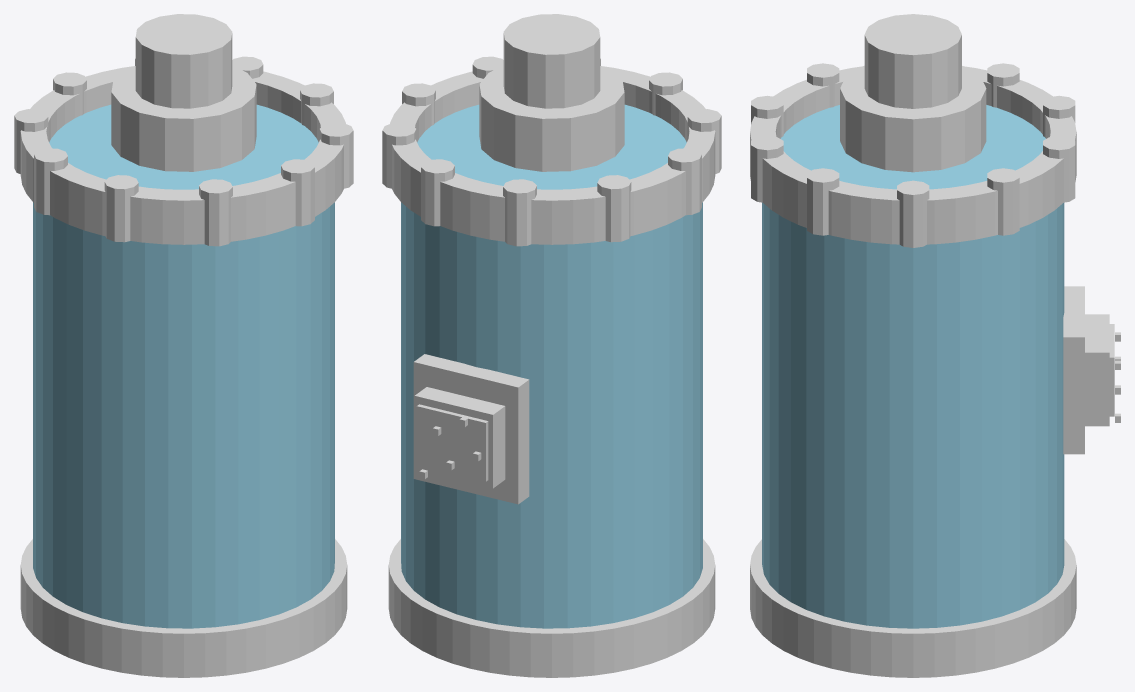
Rendered from L76_36_VirtualSuppressorCartridge_Fitted.fbx.
3 renders of one model, left to right at view 1: azimuth 30°, elevation 25°; view 2: azimuth 150°, elevation 25°; view 3: azimuth 270°, elevation 25°, orthographic.
Parts seen in each view (by area): view 1: L76_VirtualSuppressorCartridge_Static__glass, L76_VirtualSuppressorCartridge_Static__tint47657C, L76_VirtualSuppressorCartridge_Static__tintC2D0D6, L76_VirtualSuppressorCartridge_ANIM_SUPPRESSOR_METERING__tin; view 2: L76_VirtualSuppressorCartridge_Static__glass, L76_VirtualSuppressorCartridge_Static__tint47657C, L76_VirtualSuppressorCartridge_Static__tintC2D0D6, L76_VirtualSuppressorCartridge_Static__tint1D303F, L76_VirtualSuppressorCartridge_ANIM_SUPPRESSOR_METERING__tin, L76_VirtualSuppressorCartridge_Static__tint1B76D6; view 3: L76_VirtualSuppressorCartridge_Static__glass, L76_VirtualSuppressorCartridge_Static__tint47657C, L76_VirtualSuppressorCartridge_Static__tintC2D0D6, L76_VirtualSuppressorCartridge_ANIM_SUPPRESSOR_METERING__tin, L76_VirtualSuppressorCartridge_Static__tint1D303F, L76_VirtualSuppressorCartridge_Static__tint1B76D6.
Part boxes in pixels (<box>): L76_VirtualSuppressorCartridge_Static__glass: <box>33,104,334,628</box>; L76_VirtualSuppressorCartridge_Static__tint47657C: <box>20,65,347,677</box>; L76_VirtualSuppressorCartridge_Static__tintC2D0D6: <box>14,56,353,246</box>; L76_VirtualSuppressorCartridge_ANIM_SUPPRESSOR_METERING__tin: <box>135,14,232,108</box>; L76_VirtualSuppressorCartridge_Static__glass: <box>401,104,702,628</box>; L76_VirtualSuppressorCartridge_Static__tint47657C: <box>388,65,715,677</box>; L76_VirtualSuppressorCartridge_Static__tintC2D0D6: <box>382,56,721,246</box>; L76_VirtualSuppressorCartridge_Static__tint1D303F: <box>413,354,529,504</box>; L76_VirtualSuppressorCartridge_ANIM_SUPPRESSOR_METERING__tin: <box>503,14,600,108</box>; L76_VirtualSuppressorCartridge_Static__tint1B76D6: <box>416,404,488,481</box>; L76_VirtualSuppressorCartridge_Static__glass: <box>762,105,1064,628</box>; L76_VirtualSuppressorCartridge_Static__tint47657C: <box>750,65,1076,677</box>; L76_VirtualSuppressorCartridge_Static__tintC2D0D6: <box>751,63,1075,247</box>; L76_VirtualSuppressorCartridge_ANIM_SUPPRESSOR_METERING__tin: <box>864,14,961,108</box>; L76_VirtualSuppressorCartridge_Static__tint1D303F: <box>1063,286,1109,454</box>; L76_VirtualSuppressorCartridge_Static__tint1B76D6: <box>1109,324,1114,416</box>.
Size of the model in its own units: 6.71 by 12.48 by 7.3.
